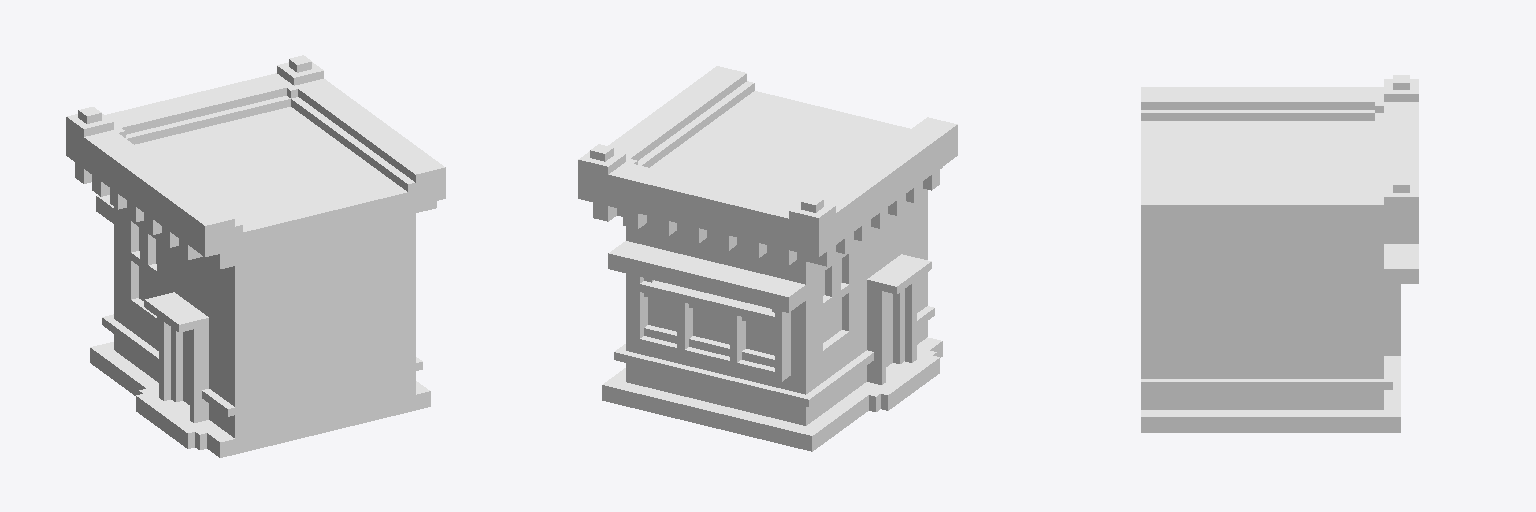
File: tile_1_right_90.obj
3 renders of one model, left to right at view 1: azimuth 30°, elevation 25°; view 2: azimuth 150°, elevation 25°; view 3: azimuth 270°, elevation 25°, orthographic.
Parts seen in each view (by area): view 1: object 1; view 2: object 1; view 3: object 1.
Part boxes in pixels (left/top/right/bottom): object 1: left=66, top=55, right=445, bottom=457; object 1: left=578, top=66, right=957, bottom=451; object 1: left=1141, top=75, right=1418, bottom=432.
Bounding box in the file's own units: 3.2 × 3.2 × 3.2.